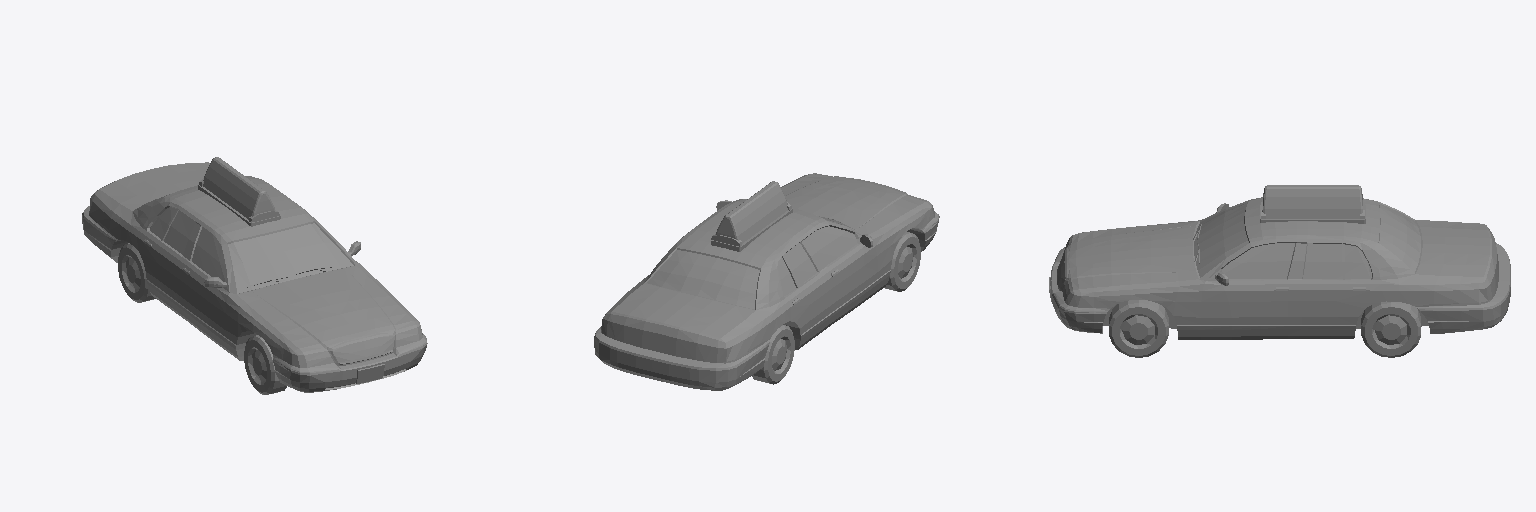
File: TaxiCar01.obj
3 renders of one model, left to right at view 1: azimuth 30°, elevation 25°; view 2: azimuth 150°, elevation 25°; view 3: azimuth 270°, elevation 25°, orthographic.
Visible parts, largest first — view 1: TaxiCar01, WheelFR, WheelBR; view 2: TaxiCar01, WheelBR, WheelFR; view 3: TaxiCar01, WheelFL, WheelBL.
Part boxes in pixels (bbox=[...]): TaxiCar01: bbox=[82, 157, 427, 392]; WheelFR: bbox=[244, 335, 286, 394]; WheelBR: bbox=[118, 243, 155, 302]; TaxiCar01: bbox=[594, 173, 939, 390]; WheelBR: bbox=[752, 325, 794, 384]; WheelFR: bbox=[884, 232, 920, 291]; TaxiCar01: bbox=[1049, 185, 1510, 339]; WheelFL: bbox=[1109, 300, 1168, 357]; WheelBL: bbox=[1361, 301, 1420, 357].
Size of the model in its own units: 20.93 by 17.82 by 53.73.